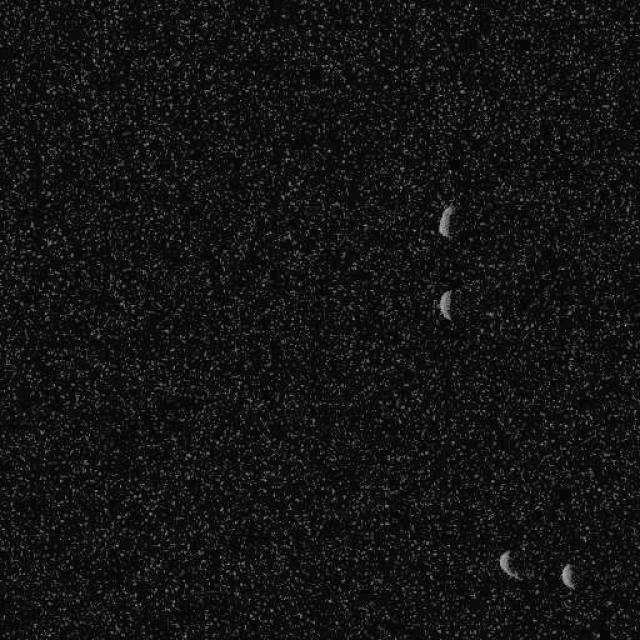D2: (498, 549, 522, 581), (437, 202, 455, 238), (559, 561, 576, 590), (438, 289, 452, 321)
